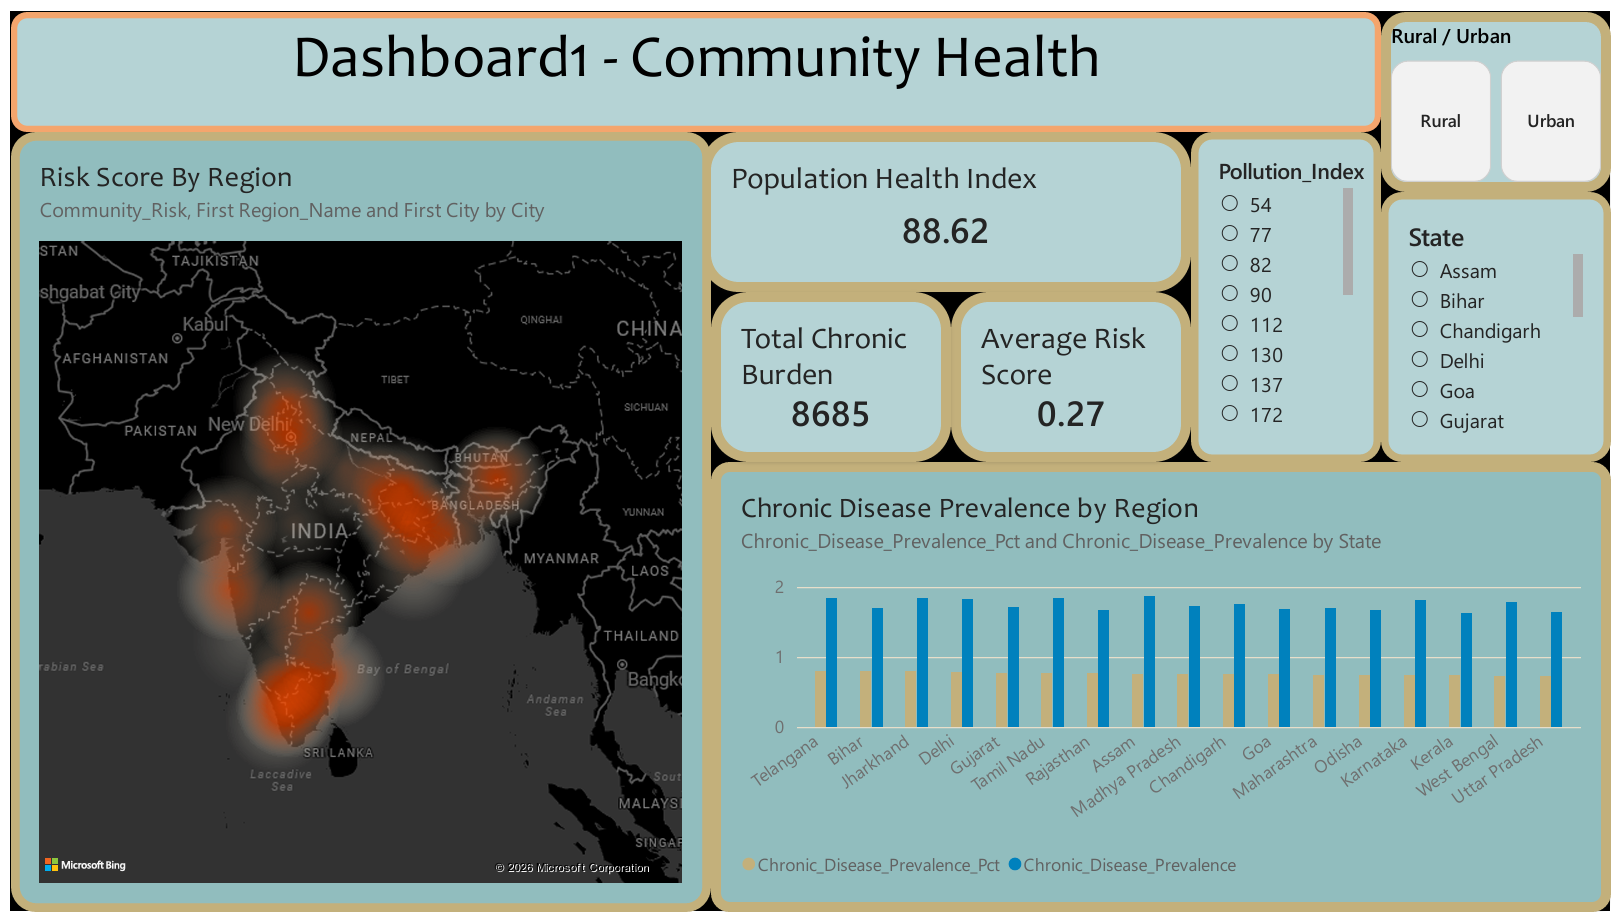

Layout of this report page (visuals, bound fields, positions):
{"tool":"powerbi","page":{"name":"Dashboard 1 - Community Health","canvas":[1280,720],"ordinal":0},"visuals":[{"type":"card","title":"Population Health Index","fields":{"Values":["Risk_Stratification.Population_Health_Index"]},"box":[552,96,392,128],"z":1000},{"type":"clusteredColumnChart","title":"Chronic Disease Prevalence by Region","fields":{"Y":["Risk_Stratification.Chronic_Disease_Prevalence_Pct","Risk_Stratification.Chronic_Disease_Prevalence"],"Category":["Region_Lookup.State"]},"box":[560,360,720,360],"z":2000},{"type":"card","title":"Average Risk Score","fields":{"Values":["Risk_Stratification.Community_Risk"]},"box":[752,224,192,136],"z":3000},{"type":"advancedSlicerVisual","title":"Rural / Urban","fields":{"Values":["Community_Demographics.Rural_Urban"]},"box":[1096,0,184,144],"z":4000},{"type":"listSlicer","fields":{"Values":["Region_Lookup.State"]},"box":[1096,144,184,216],"z":5000},{"type":"listSlicer","fields":{"Values":["Community_Demographics.Pollution_Index"]},"box":[944,96,152,264],"z":6000},{"type":"card","title":"Total Chronic Burden","fields":{"Values":["Risk_Stratification.Chronic_Burden"]},"box":[560,224,192,136],"z":7000},{"type":"map","title":"Risk Score By Region","fields":{"Category":["Region_Lookup.City"],"Size":["Risk_Stratification.Community_Risk"]},"box":[0,96,560,624],"z":8000},{"type":"textbox","box":[0,0,1096,96],"z":9000}]}

Visuals, with their boxes in screenshot pixels (x1, y1, x2, y2), scaled from the page's 1280x720 canvas onto the 1621x923 screenshot:
"Population Health Index" card: [699,123,1195,287]
"Chronic Disease Prevalence by Region" clusteredColumnChart: [709,462,1620,922]
"Average Risk Score" card: [952,287,1195,462]
"Rural / Urban" advancedSlicerVisual: [1388,0,1620,185]
listSlicer - Region_Lookup.State: [1388,185,1620,462]
listSlicer - Community_Demographics.Pollution_Index: [1195,123,1388,462]
"Total Chronic Burden" card: [709,287,952,462]
"Risk Score By Region" map: [0,123,709,922]
textbox: [0,0,1388,123]
